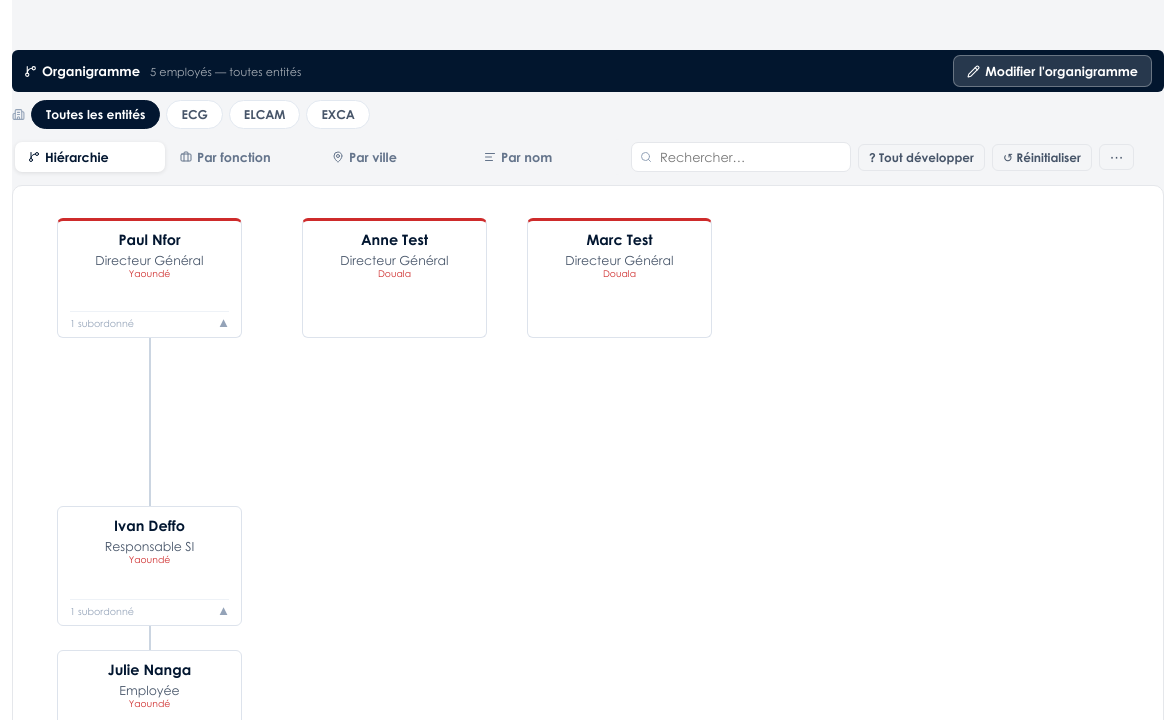
Test case: OrgChart — rendu composant › affiche le bouton Exporter PDF
The image size is (1164, 720).
Ouvre le menu export (bouton ⋯)
Step 1. Click the button named "exporter" → (1117, 157), box [1099,144,1134,170]
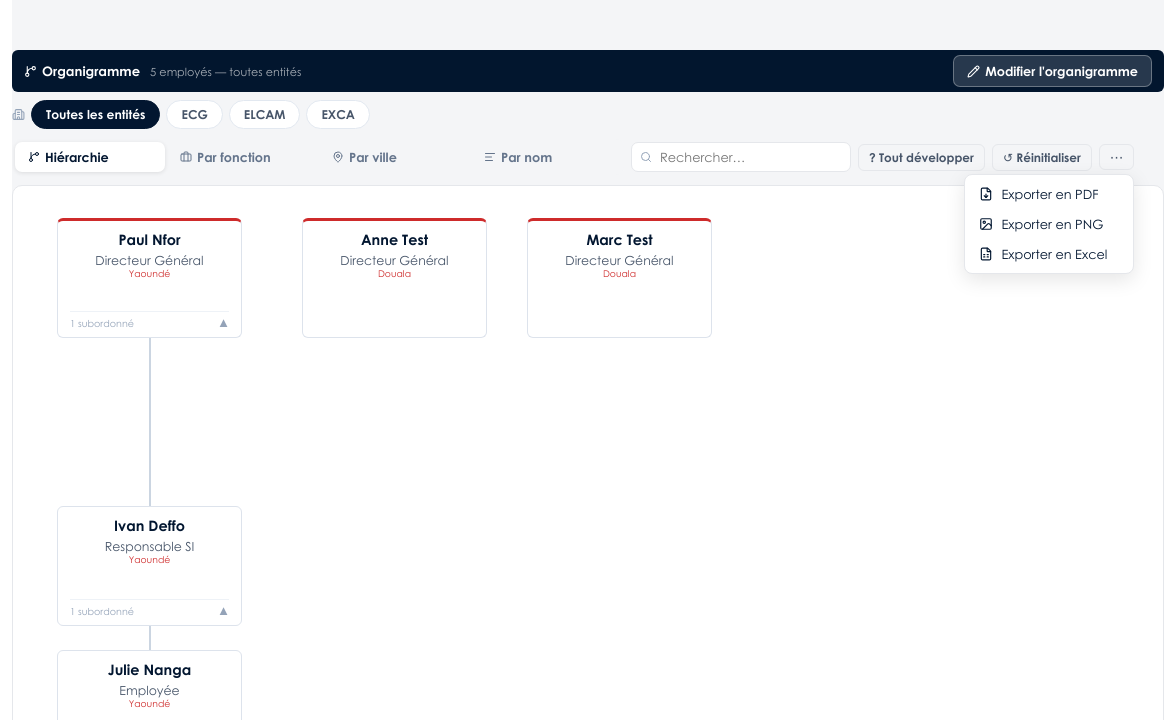
expect the menu item "Exporter en PDF" is shown: met, box [970,179,1130,209]
